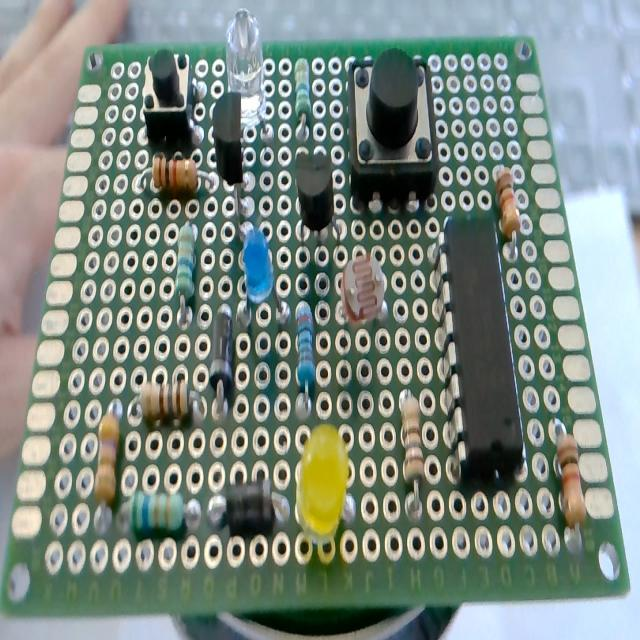IC: (430, 209, 530, 499)
cds: (338, 256, 394, 349)
diode: (204, 475, 286, 529), (206, 296, 237, 420)
led: (290, 412, 356, 574), (224, 7, 272, 132), (238, 220, 288, 332)
resistor: (84, 388, 124, 538), (122, 384, 204, 437), (550, 422, 586, 542), (396, 379, 425, 513), (132, 152, 216, 197), (492, 154, 524, 266), (168, 204, 200, 314), (115, 495, 201, 535), (295, 300, 321, 406), (291, 56, 309, 148)
switch: (343, 48, 443, 207), (134, 49, 198, 139)
transistor: (288, 146, 346, 258), (206, 91, 252, 222)
